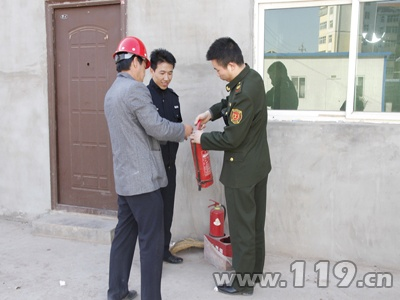none: (208, 35, 243, 82), (148, 48, 174, 88)
red: (114, 37, 147, 81)
